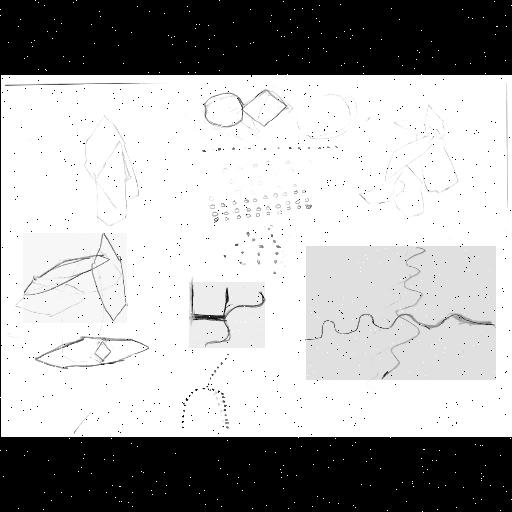shape-1: (204, 88, 288, 130)
shape-2: (202, 144, 338, 150)
shape-3: (210, 188, 310, 224)
shape-4: (222, 226, 280, 276)
shape-5: (189, 282, 265, 348)
shape-6: (180, 350, 228, 430)
shape-7: (306, 246, 496, 380)
shape-8: (23, 233, 127, 323)
shape-9: (35, 336, 149, 370)
